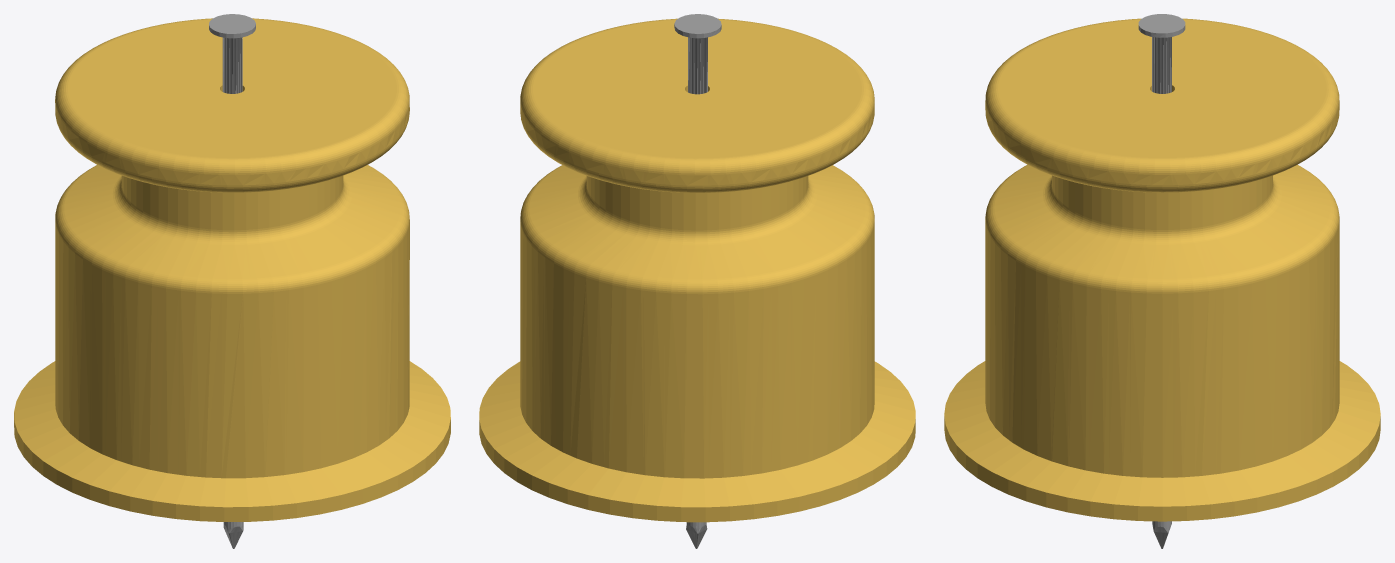
3 views of the same model, side by side, from view 1: azimuth 30°, elevation 25°; view 2: azimuth 150°, elevation 25°; view 3: azimuth 270°, elevation 25° (orthographic).
Visible parts, largest first — view 1: 9; view 2: 9; view 3: 9.
Part boxes in pixels (left/top/right/bottom): 9: left=14, top=14, right=450, bottom=548; 9: left=479, top=14, right=915, bottom=548; 9: left=944, top=14, right=1380, bottom=548.
Size of the model in its own units: 34.5 by 45.73 by 34.5.
Materials: 2 (2 with a texture image).
